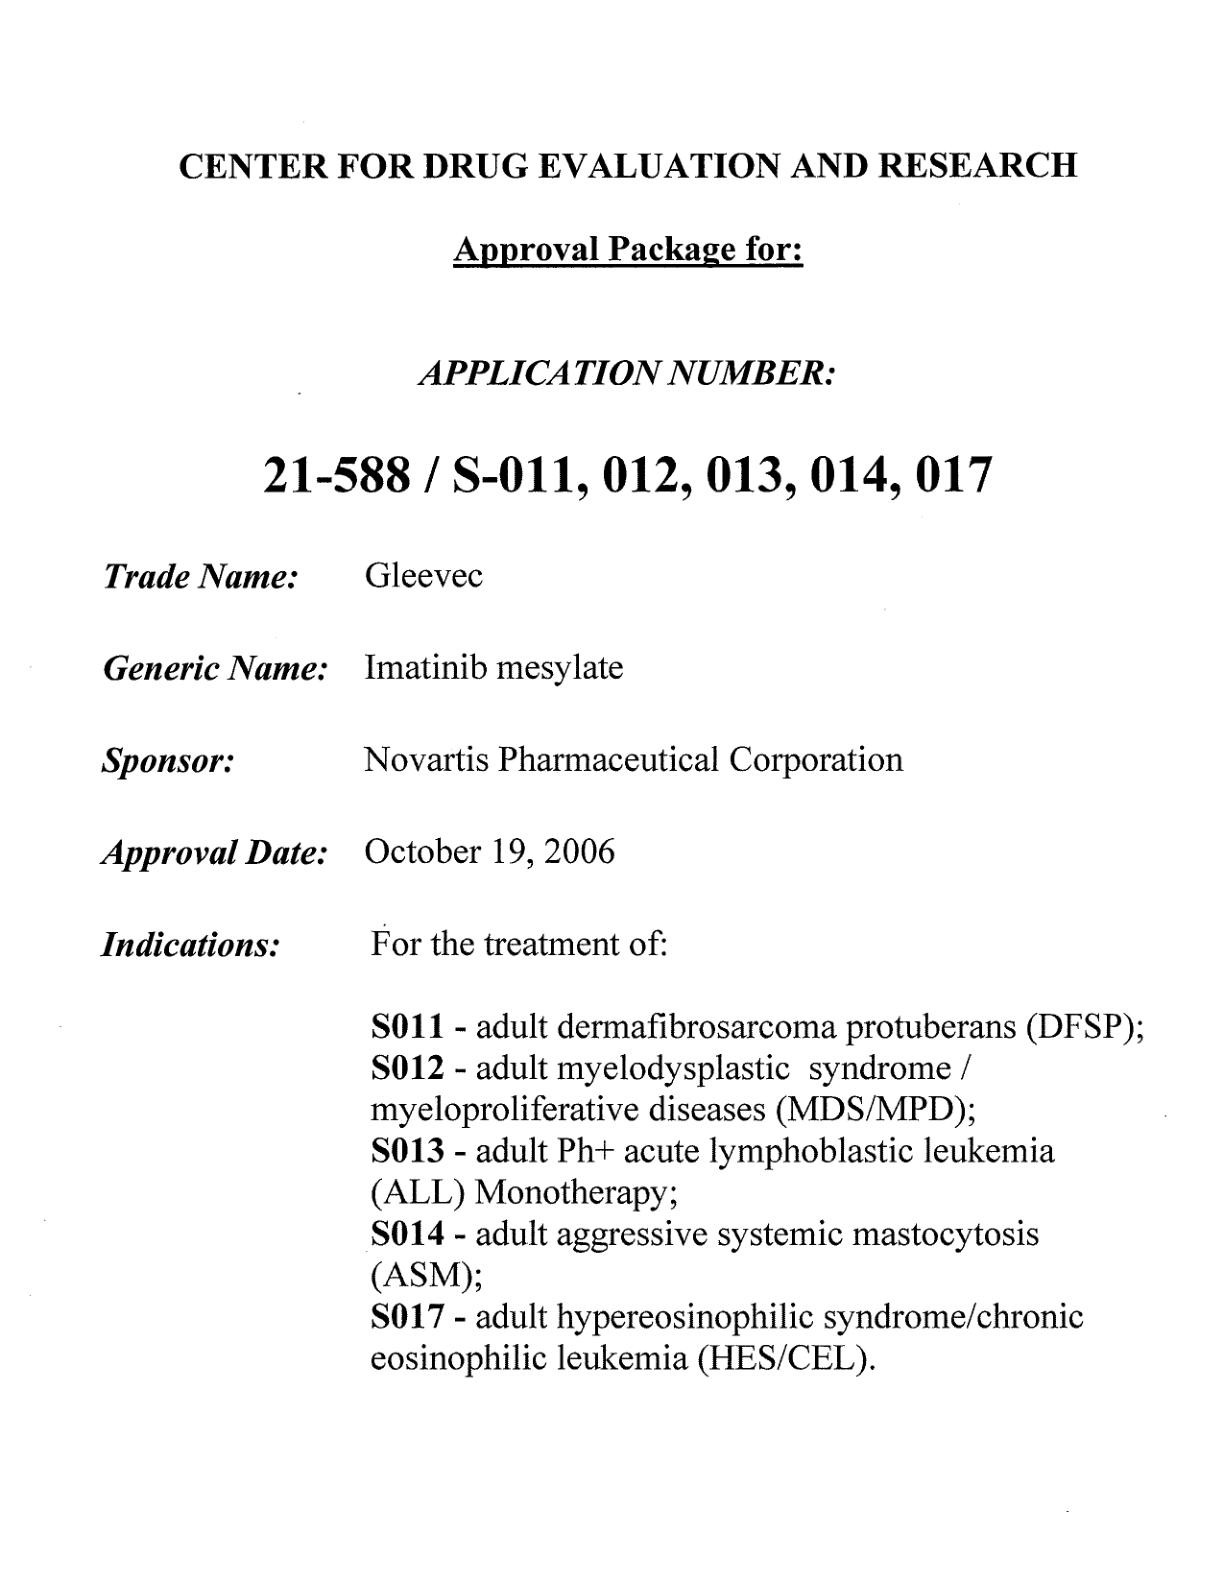nolines: (95, 556, 1146, 1379)
